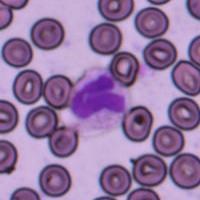N: (68, 66, 132, 136)
